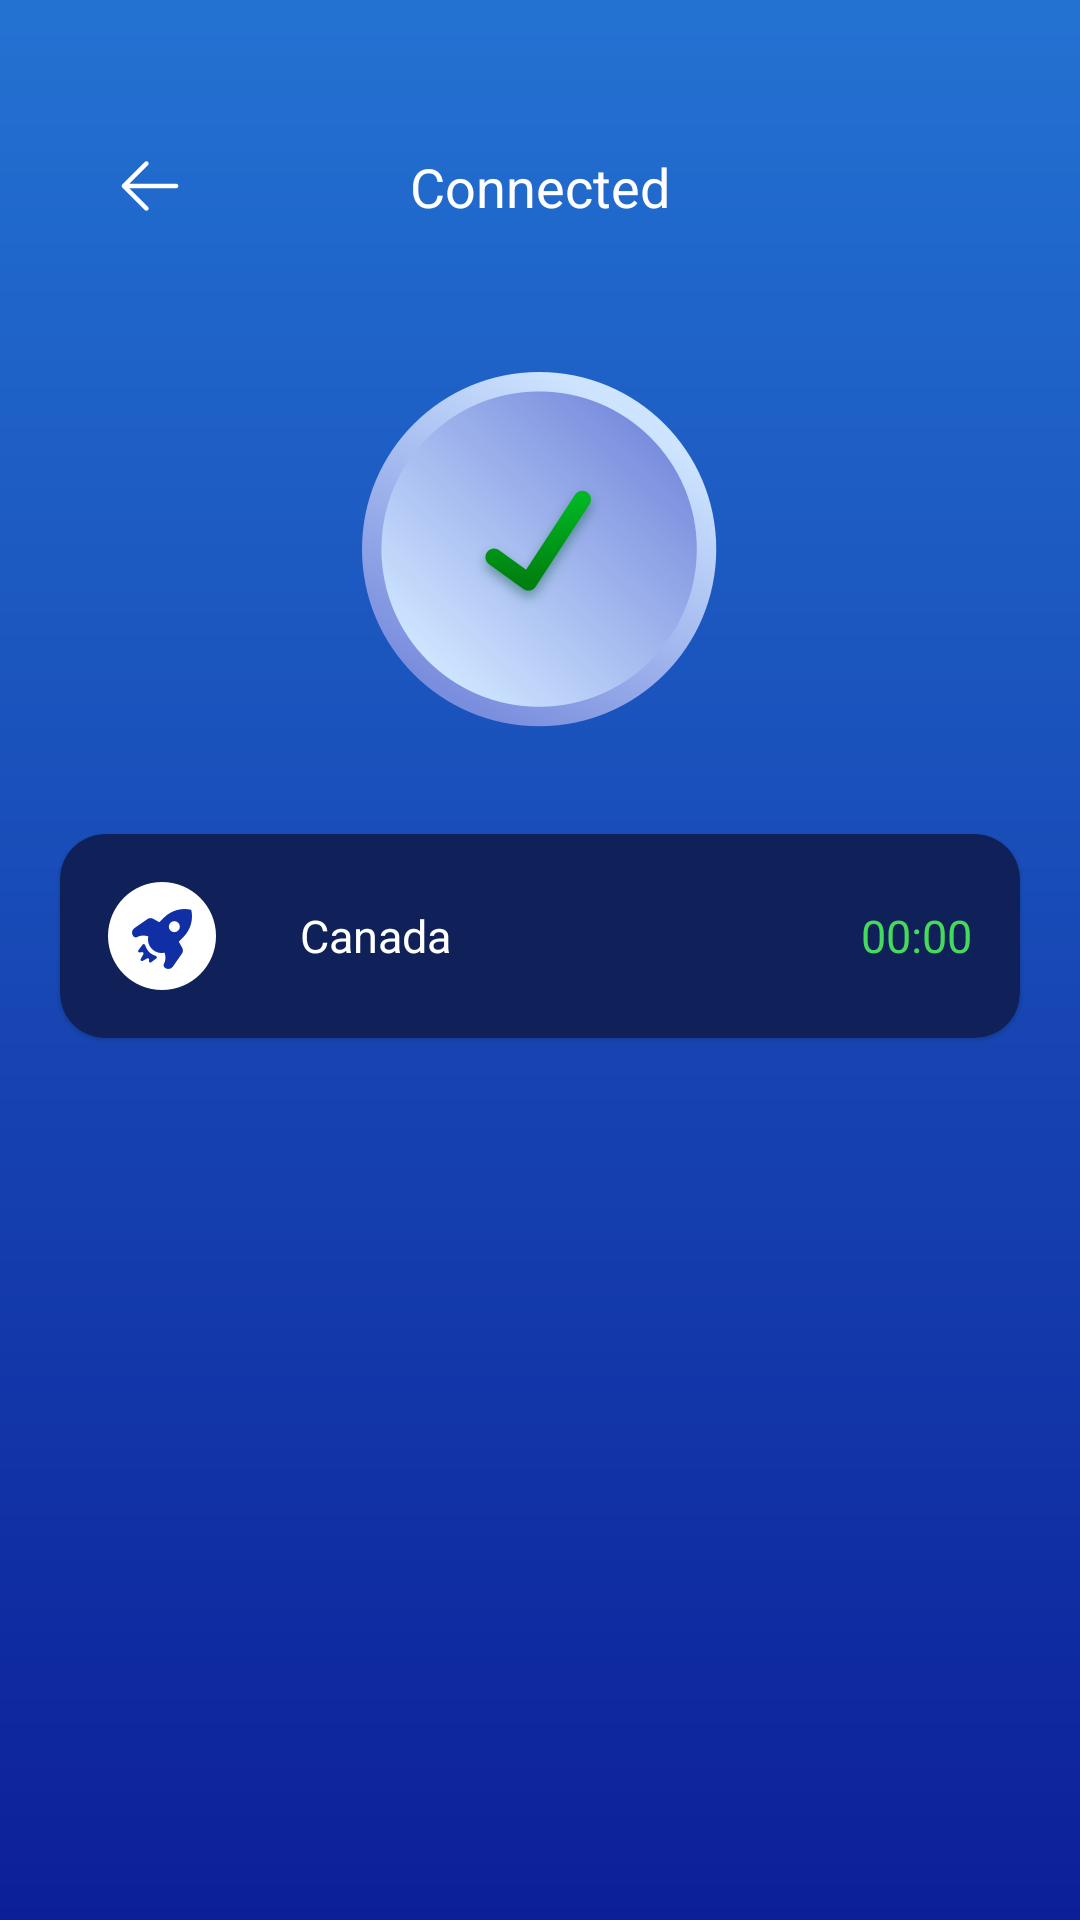

Icon bounding boxes for this 1080 × 1920 phone screenshot, format (x1, y1, x2, y2):
back: (121, 161, 179, 211)
fast: (108, 882, 216, 990)
